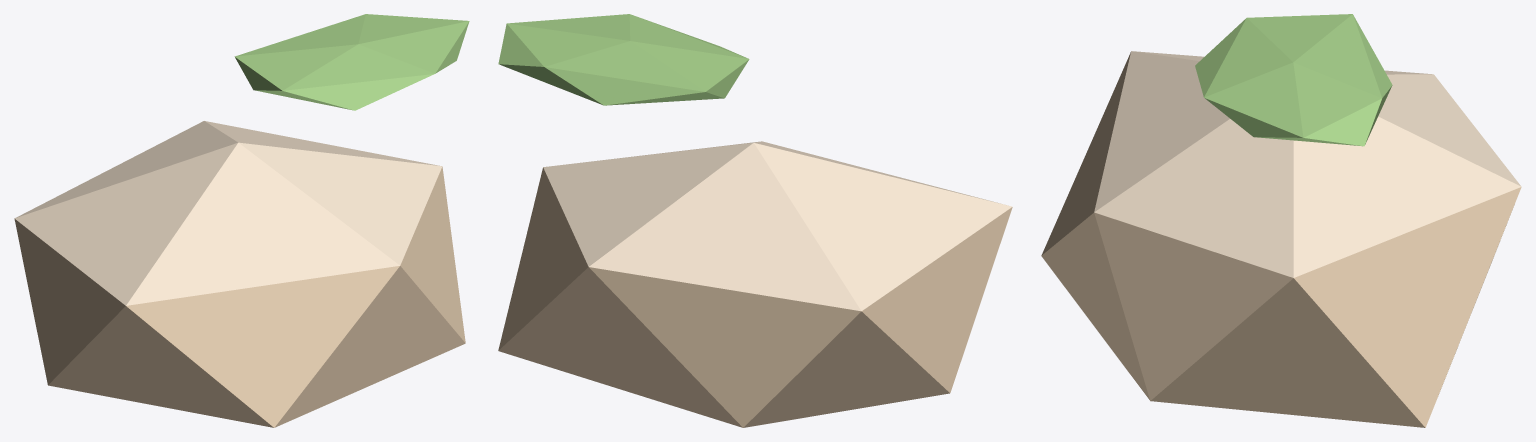
Rendered from PG_Rock_A.fbx.
3 renders of one model, left to right at view 1: azimuth 30°, elevation 25°; view 2: azimuth 150°, elevation 25°; view 3: azimuth 270°, elevation 25°, orthographic. The views are drawn at different scales.
Visible parts, largest first — view 1: PG_Rock_A; view 2: PG_Rock_A; view 3: PG_Rock_A.
Part boxes in pixels (box(x1,y1,x2,y2)): PG_Rock_A: box(14, 14, 469, 427); PG_Rock_A: box(498, 14, 1012, 427); PG_Rock_A: box(1041, 14, 1521, 427).
Bounding box in the file's own units: 0.769 × 0.4774 × 0.6403.
